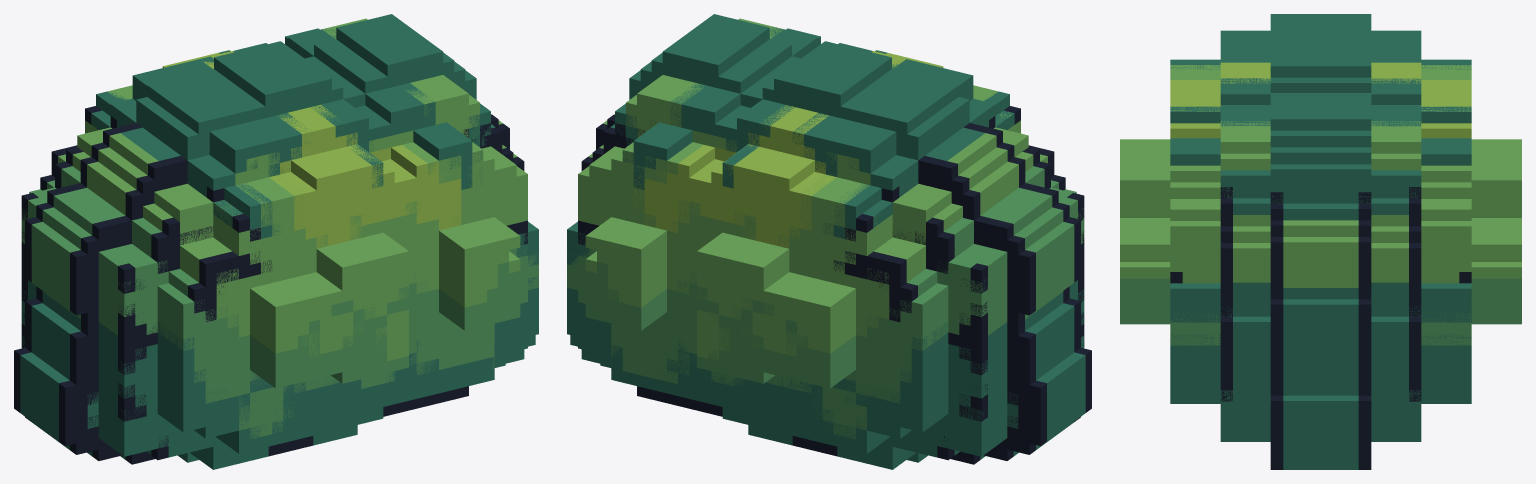
The model's file is Bushe2.glb.
The picture shows the model from 3 angles, left to right: view 1: azimuth 30°, elevation 25°; view 2: azimuth 150°, elevation 25°; view 3: azimuth 270°, elevation 25°; orthographic projection. The views are drawn at different scales.
Visible parts, largest first — view 1: q0, q3, q2, q4, q1, q5; view 2: q0, q3, q4, q2, q1, q5; view 3: q0, q3, q4, q2, q5.
Boxes of the visible parts, <box> form: q0: <box>14,16,538,469</box>; q3: <box>22,14,538,464</box>; q2: <box>29,28,527,464</box>; q4: <box>25,50,538,464</box>; q1: <box>14,172,201,449</box>; q5: <box>114,104,538,449</box>; q0: <box>567,17,1091,469</box>; q3: <box>567,14,1084,464</box>; q4: <box>567,50,1080,466</box>; q2: <box>578,28,1076,463</box>; q1: <box>902,172,1091,450</box>; q5: <box>567,91,995,450</box>; q0: <box>1120,14,1521,469</box>; q3: <box>1120,19,1521,368</box>; q4: <box>1120,65,1521,403</box>; q2: <box>1170,59,1471,446</box>; q5: <box>1120,169,1521,202</box>.
Size of the model in its own units: 42 by 30 by 32.
1 material, 1 textured.
